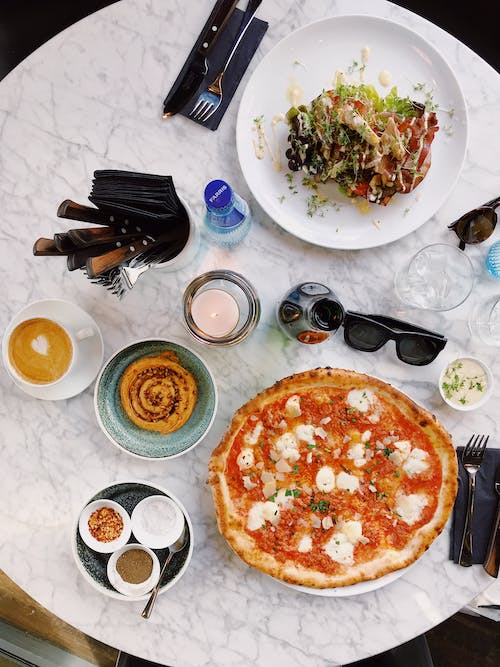knife: (160, 0, 246, 120)
